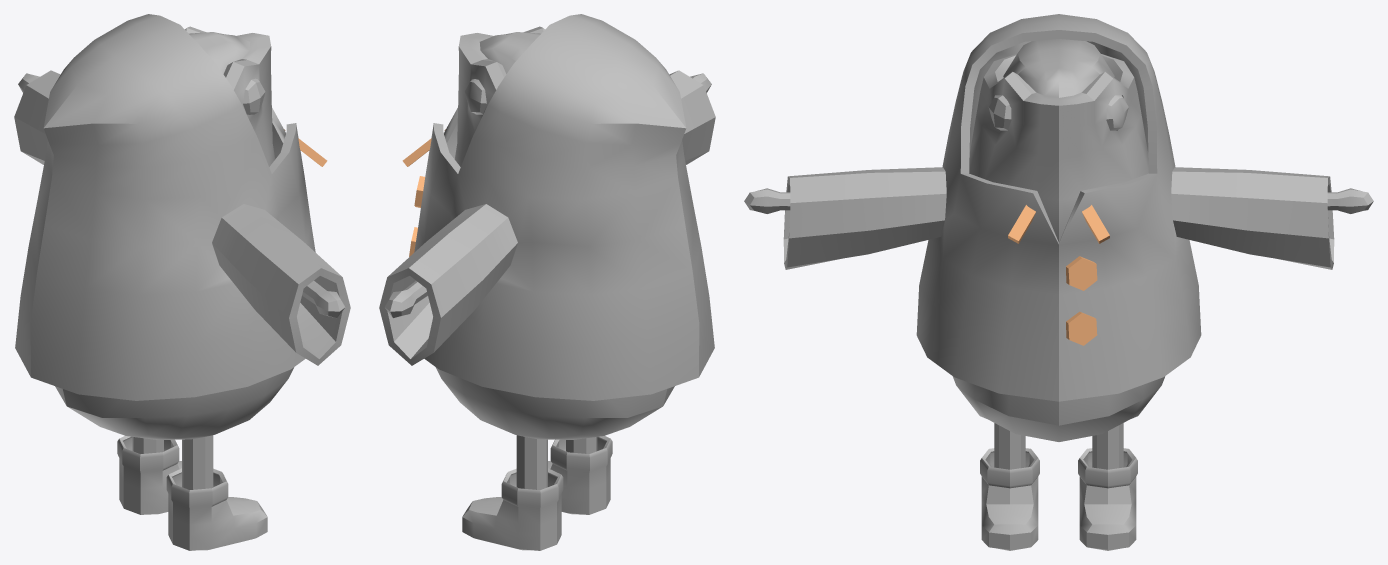
Rendered from FrogMan_001.fbx.
3 views of the same model, side by side, from view 1: azimuth 30°, elevation 25°; view 2: azimuth 150°, elevation 25°; view 3: azimuth 270°, elevation 25° (orthographic).
Parts seen in each view (by area): view 1: Frög1; view 2: Frög1; view 3: Frög1.
Part boxes in pixels (x1,y1,x2,y2): Frög1: (14,14,350,550); Frög1: (379,14,715,550); Frög1: (744,14,1373,550).
Bounding box in the file's own units: 132 × 225 × 258.
